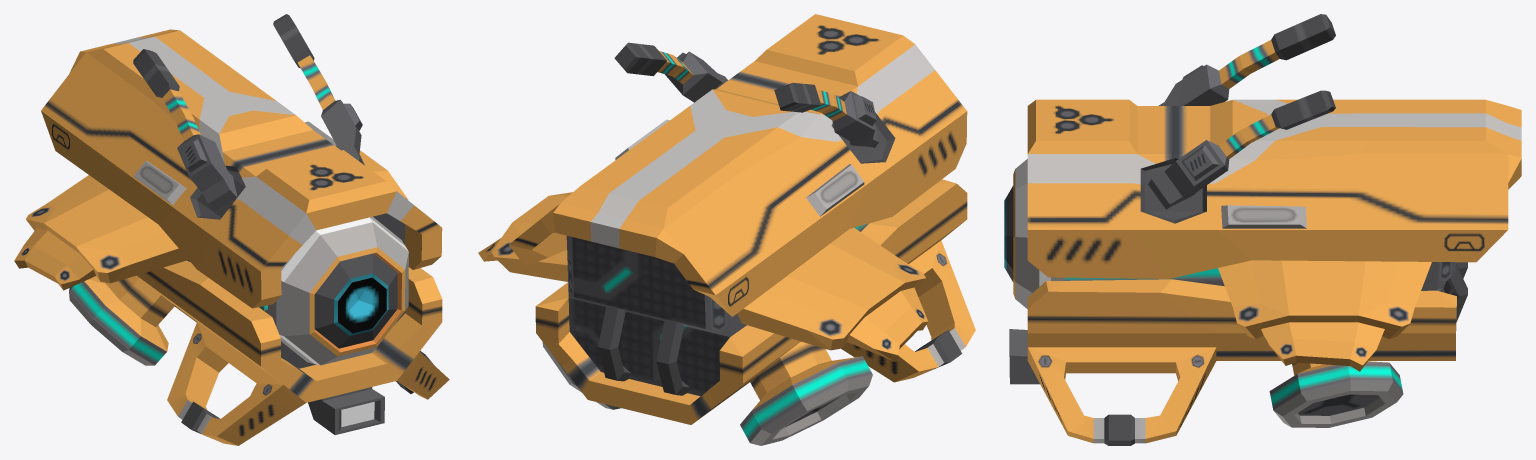
Rendered from SM_Prop_Camera_Drone_01.fbx.
The picture shows the model from 3 angles, left to right: view 1: azimuth 30°, elevation 25°; view 2: azimuth 150°, elevation 25°; view 3: azimuth 270°, elevation 25°; orthographic projection. The views are drawn at different scales.
Parts seen in each view (by area): view 1: SM_Prop_Camera_Drone_01; view 2: SM_Prop_Camera_Drone_01; view 3: SM_Prop_Camera_Drone_01.
Boxes of the visible parts, bbox=[...] form: SM_Prop_Camera_Drone_01: bbox=[14, 14, 449, 445]; SM_Prop_Camera_Drone_01: bbox=[478, 14, 975, 445]; SM_Prop_Camera_Drone_01: bbox=[1004, 14, 1521, 445].
Bounding box in the file's own units: 53.57 × 43.65 × 59.79.
